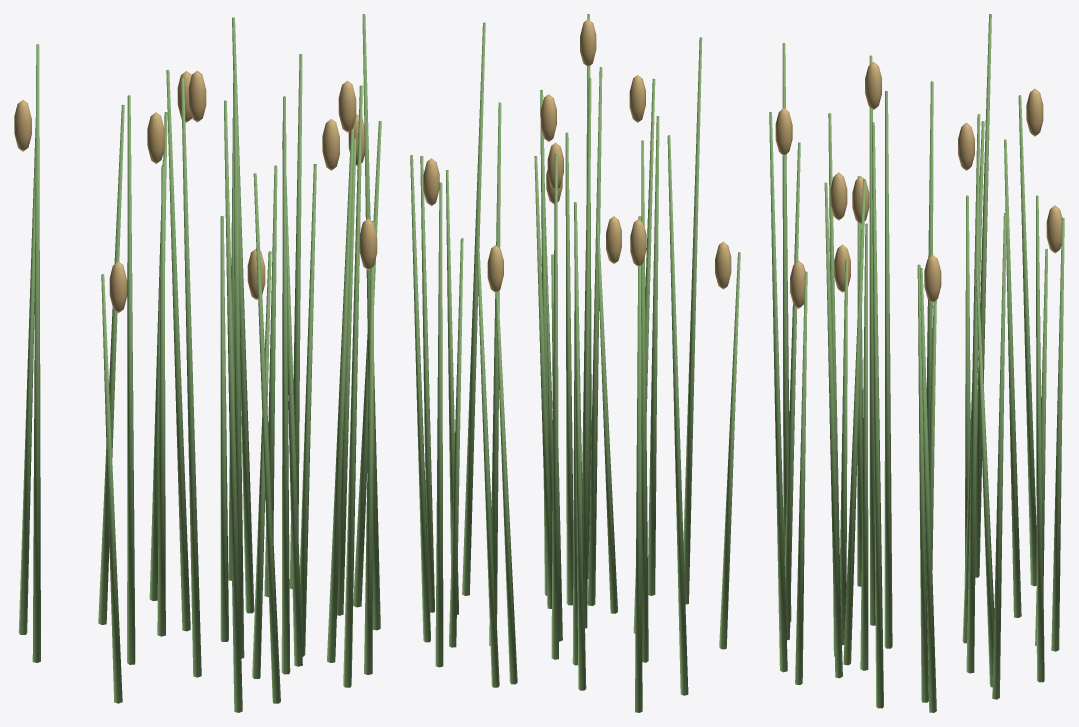
The model's file is reed_patch_a.glb.
3 views of the same model, side by side, from view 1: azimuth 30°, elevation 25°; view 2: azimuth 150°, elevation 25°; view 3: azimuth 270°, elevation 25° (orthographic). The views are drawn at different scales.
Parts seen in each view (by area): view 1: reed_7, reed_12, reed_21, reed_23, reed_17, reed_20, reed_9, reed_6, reed_4, reed_19, reed_24, reed_22 (+23 smaller); view 2: reed_16, reed_23, reed_7, reed_17, reed_10, reed_14, reed_2, reed_9, reed_4, reed_22, reed_1, reed_24 (+25 smaller); view 3: reed_16, reed_12, reed_22, reed_19, reed_6, reed_10, reed_24, reed_1, reed_14, reed_2, reed_23, reed_26 (+26 smaller).
Part boxes in pixels (left/top/right/bottom): reed_7: left=224, top=100, right=242, bottom=712; reed_12: left=343, top=85, right=362, bottom=687; reed_21: left=181, top=77, right=201, bottom=677; reed_23: left=32, top=44, right=40, bottom=662; reed_17: left=281, top=96, right=290, bottom=674; reed_20: left=127, top=95, right=135, bottom=664; reed_9: left=166, top=70, right=190, bottom=631; reed_6: left=327, top=125, right=354, bottom=662; reed_4: left=253, top=173, right=280, bottom=703; reed_19: left=232, top=17, right=254, bottom=613; reed_24: left=18, top=118, right=35, bottom=634; reed_22: left=233, top=64, right=244, bottom=658; reed_16: left=462, top=22, right=485, bottom=595; reed_23: left=667, top=135, right=688, bottom=695; reed_7: left=683, top=37, right=702, bottom=604; reed_17: left=587, top=67, right=602, bottom=605; reed_10: left=435, top=182, right=443, bottom=667; reed_14: left=410, top=155, right=430, bottom=642; reed_2: left=574, top=202, right=586, bottom=690; reed_9: left=551, top=154, right=558, bottom=659; reed_4: left=648, top=116, right=659, bottom=595; reed_22: left=582, top=78, right=591, bottom=628; reed_1: left=565, top=132, right=573, bottom=605; reed_24: left=635, top=216, right=642, bottom=712; reed_16: left=872, top=122, right=883, bottom=708; reed_12: left=769, top=112, right=787, bottom=672; reed_22: left=884, top=91, right=892, bottom=648; reed_19: left=966, top=114, right=980, bottom=673; reed_6: left=824, top=182, right=842, bottom=678; reed_10: left=1036, top=195, right=1044, bottom=682; reed_24: left=1018, top=95, right=1036, bottom=586; reed_1: left=843, top=179, right=865, bottom=665; reed_14: left=992, top=213, right=1006, bottom=699; reed_2: left=1004, top=139, right=1021, bottom=617; reed_23: left=975, top=14, right=991, bottom=577; reed_26: left=860, top=223, right=868, bottom=670.
Size of the model in its own units: 0.7708 by 1.43 by 0.6641.
